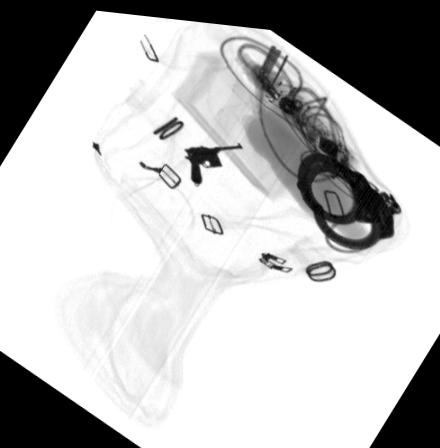Gun: (180, 134, 247, 182)
HandCuffs: (297, 141, 402, 239)
